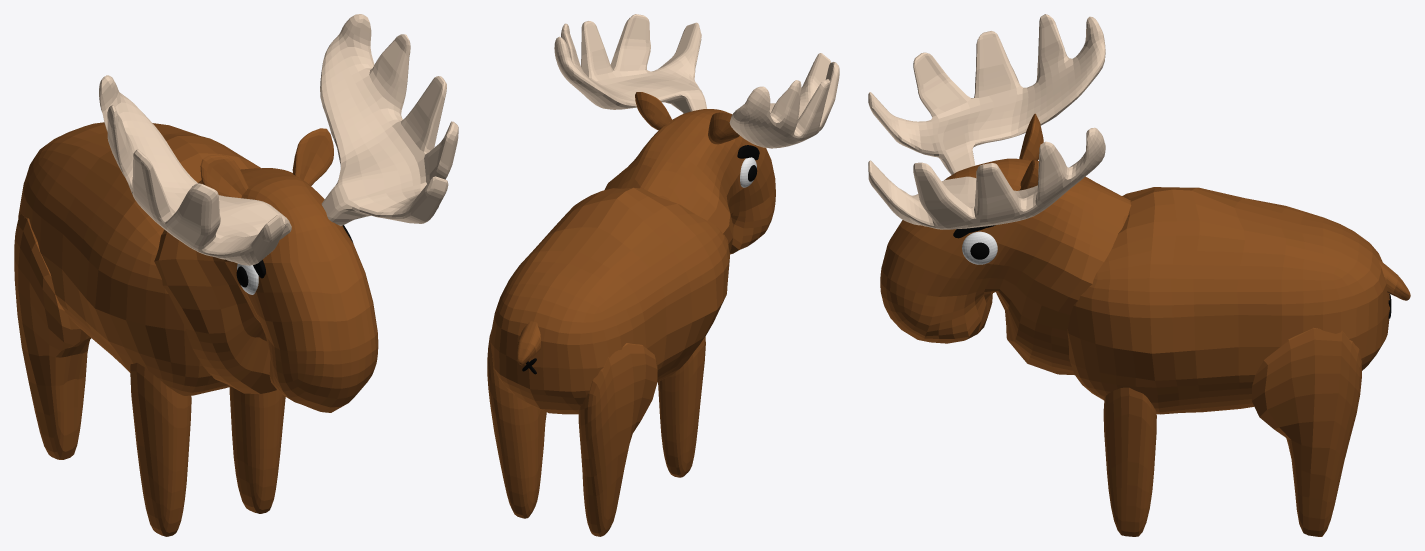
File: Moose.fbx
3 renders of one model, left to right at view 1: azimuth 30°, elevation 25°; view 2: azimuth 150°, elevation 25°; view 3: azimuth 270°, elevation 25°, orthographic. The views are drawn at different scales.
Visible parts, largest first — view 1: Moose; view 2: Moose; view 3: Moose.
Boxes of the visible parts, left/top/right/bottom form: Moose: left=14, top=14, right=458, bottom=536; Moose: left=487, top=14, right=839, bottom=536; Moose: left=868, top=14, right=1410, bottom=536.
Bounding box in the file's own units: 317 × 483 × 537.
